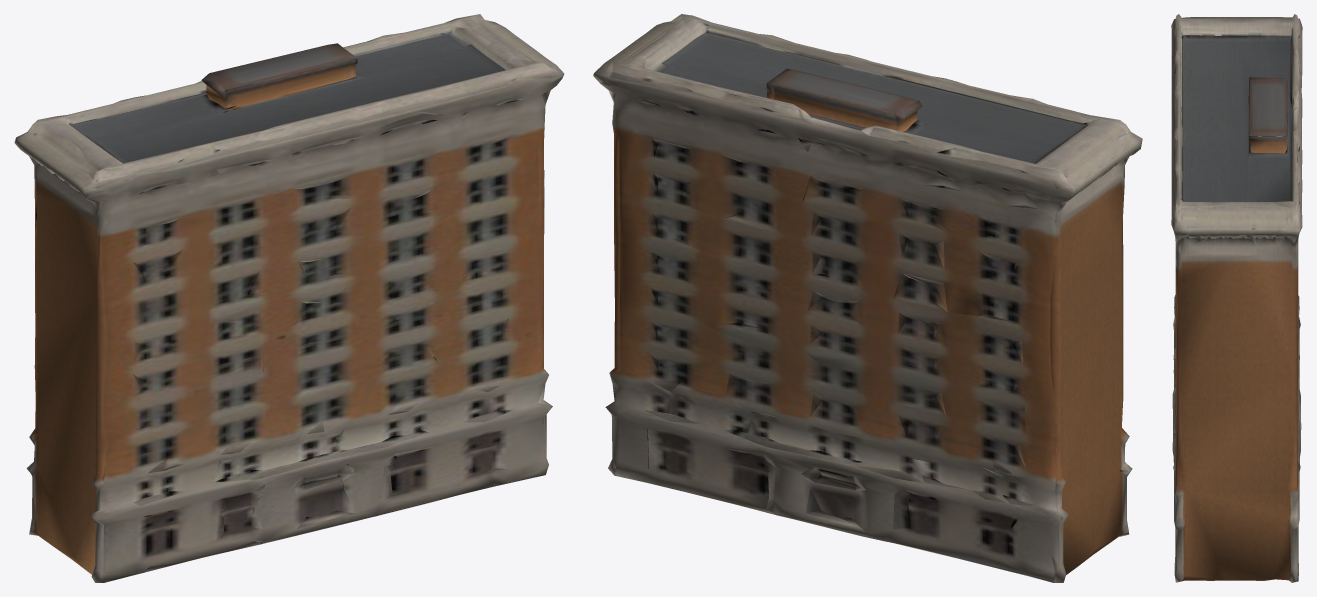
File: crane_company_building.glb
The picture shows the model from 3 angles, left to right: view 1: azimuth 30°, elevation 25°; view 2: azimuth 150°, elevation 25°; view 3: azimuth 270°, elevation 25°; orthographic projection. The views are drawn at different scales.
Visible parts, largest first — view 1: crane_company_building; view 2: crane_company_building; view 3: crane_company_building.
Part boxes in pixels (x1,y1,x2,y2): crane_company_building: (14, 14, 564, 582); crane_company_building: (593, 14, 1142, 582); crane_company_building: (1171, 14, 1302, 582).
Bounding box in the file's own units: 50 × 42 × 13.
Materials: 1 (1 with a texture image).
